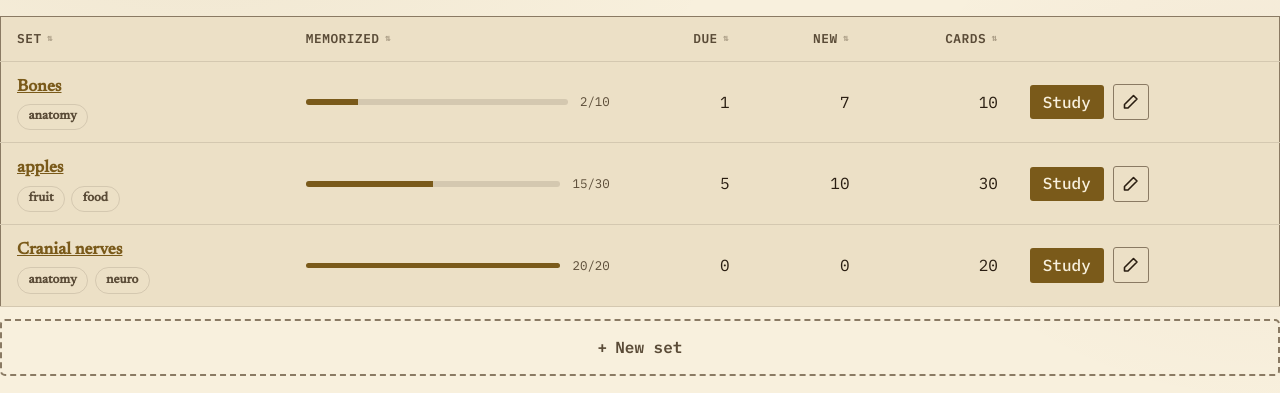
Test: SetTable sorting affordances › shows a visible direction indicator
Expected: the 5th text "⇅" is shown, [992,32,998,46]
Click the button "Cards ⇅": [972, 39] box [945,29,998,49]
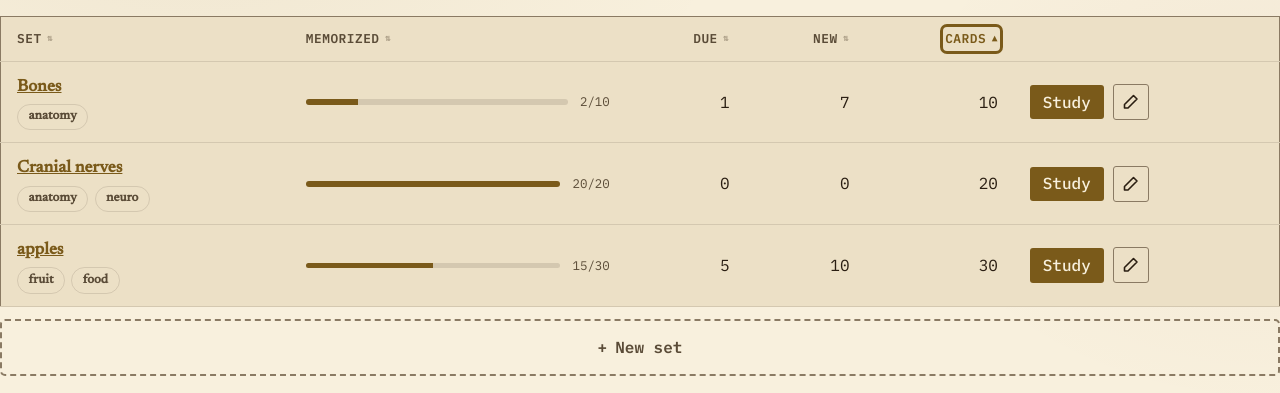
Now the text "▲" is shown, box [992,32,998,46]
Click the button "Cards ▲": [972, 39] box [945,29,998,49]
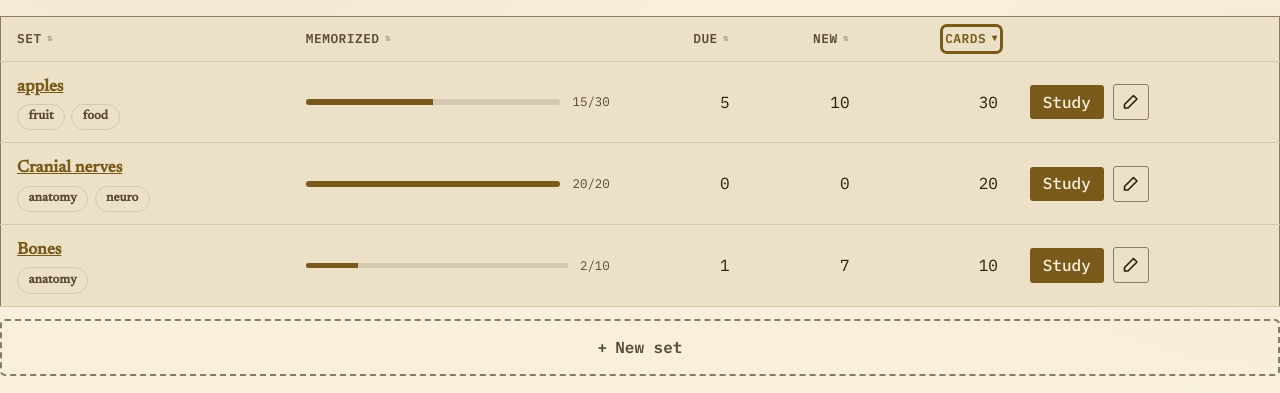
Now the text "▼" is shown, box [992,32,998,46]
